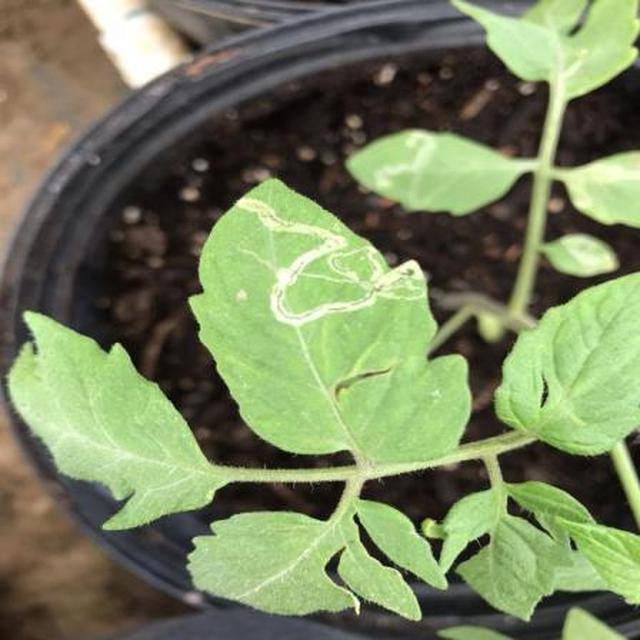Leaf Miner: (277, 248, 640, 640)
